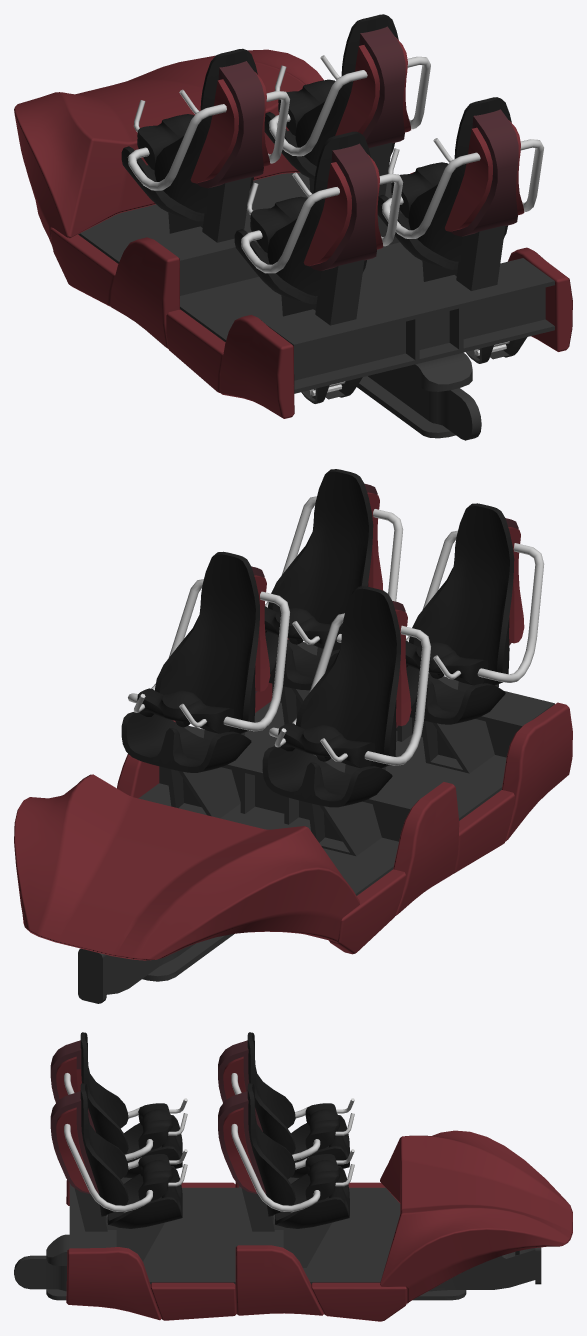
File: car_front.glb
3 renders of one model, top to bottom at view 1: azimuth 30°, elevation 25°; view 2: azimuth 150°, elevation 25°; view 3: azimuth 270°, elevation 25°, orthographic. The views are drawn at different scales.
Parts seen in each view (by area): view 1: Body0; view 2: Body0; view 3: Body0.
Part boxes in pixels (box(x1,y1,x2,y2)): Body0: box(14, 14, 572, 440); Body0: box(14, 469, 572, 1003); Body0: box(14, 1032, 572, 1321).
Size of the model in its own units: 2.28 by 2.22 by 5.02.
Materials: 1 (1 with a texture image).
